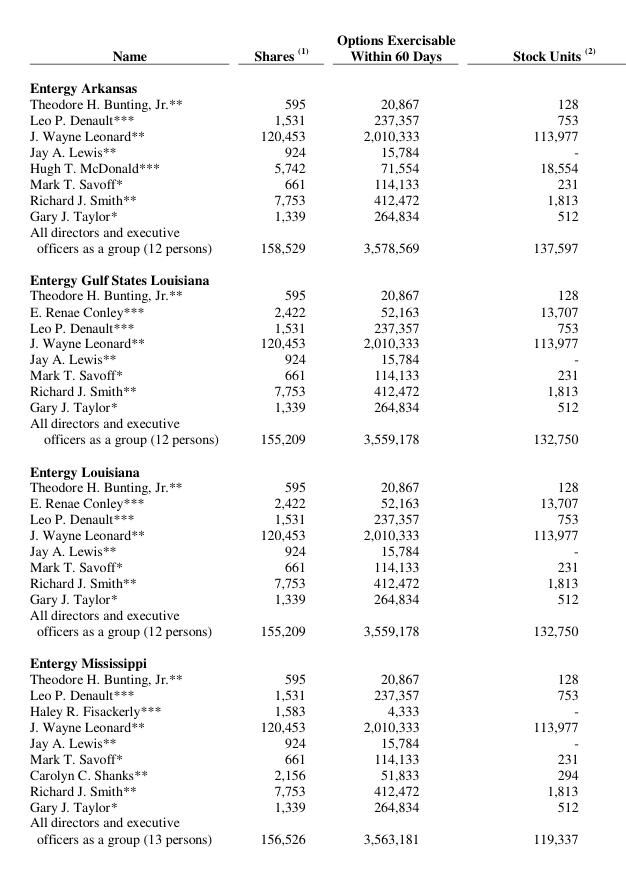table: (28, 29, 594, 846)
table column: (28, 29, 235, 846), (321, 29, 483, 846), (483, 29, 594, 846), (235, 29, 321, 846)
table column header: (28, 29, 594, 71)
table projected row header: (28, 71, 594, 95), (28, 262, 594, 286), (28, 454, 594, 478), (28, 645, 594, 669), (28, 413, 594, 430), (28, 222, 594, 238), (28, 605, 594, 621), (28, 813, 594, 829)
table row: (28, 29, 594, 71), (28, 71, 594, 95), (28, 238, 594, 262), (28, 262, 594, 286), (28, 430, 594, 454), (28, 454, 594, 478), (28, 621, 594, 645), (28, 645, 594, 669), (28, 413, 594, 430), (28, 829, 594, 846), (28, 110, 594, 126), (28, 126, 594, 142), (28, 142, 594, 158), (28, 158, 594, 174), (28, 174, 594, 190), (28, 190, 594, 206), (28, 206, 594, 222), (28, 222, 594, 238), (28, 286, 594, 302), (28, 302, 594, 318), (28, 318, 594, 334), (28, 334, 594, 350), (28, 350, 594, 366), (28, 381, 594, 397), (28, 397, 594, 413), (28, 493, 594, 509), (28, 509, 594, 525), (28, 525, 594, 541), (28, 541, 594, 557), (28, 557, 594, 573), (28, 573, 594, 589), (28, 589, 594, 605), (28, 605, 594, 621), (28, 669, 594, 685), (28, 685, 594, 701), (28, 701, 594, 717), (28, 717, 594, 733), (28, 733, 594, 749), (28, 749, 594, 765), (28, 765, 594, 781), (28, 781, 594, 797), (28, 797, 594, 813), (28, 813, 594, 829), (28, 95, 594, 110), (28, 366, 594, 381), (28, 478, 594, 493)
